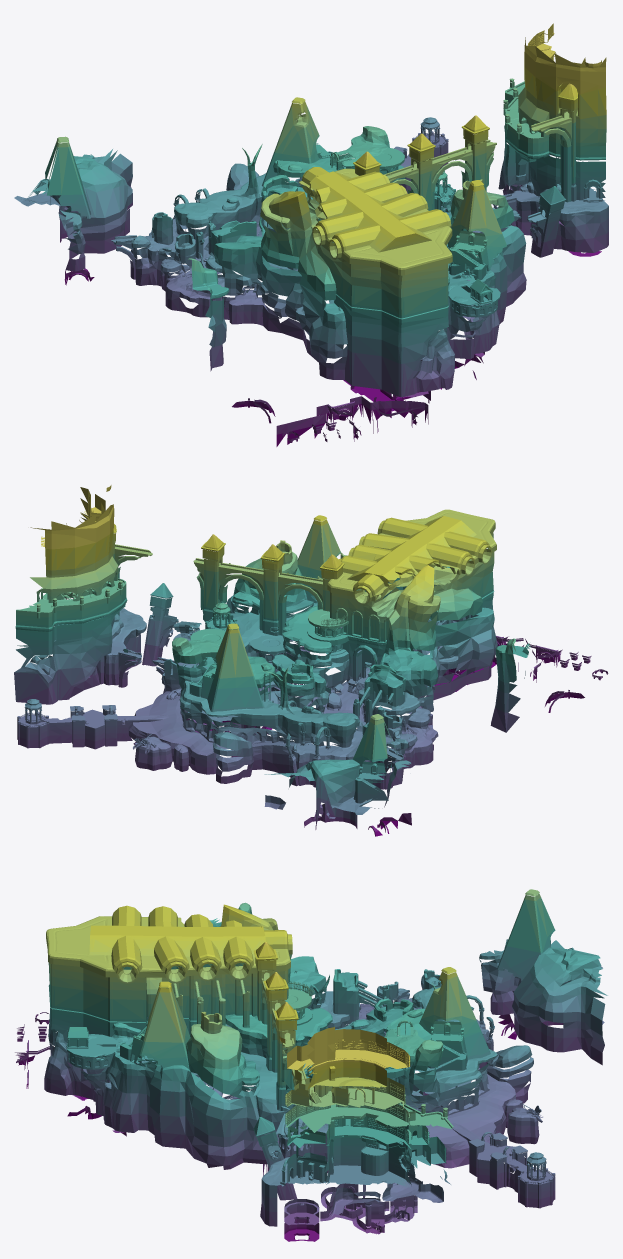
3 views of the same model, one above another, from view 1: azimuth 30°, elevation 25°; view 2: azimuth 150°, elevation 25°; view 3: azimuth 270°, elevation 25° (orthographic). The views are drawn at different scales.
Visible parts, largest first — view 1: walls, floors; view 2: walls, floors; view 3: walls, floors.
Part boxes in pixels (x1,y1,x2,y2): walls: (25, 23, 608, 446); floors: (14, 32, 608, 431); walls: (14, 485, 608, 836); floors: (15, 507, 561, 836); walls: (15, 893, 604, 1239); floors: (19, 889, 607, 1241).
Bounding box in the file's own units: 315 × 139 × 337.
